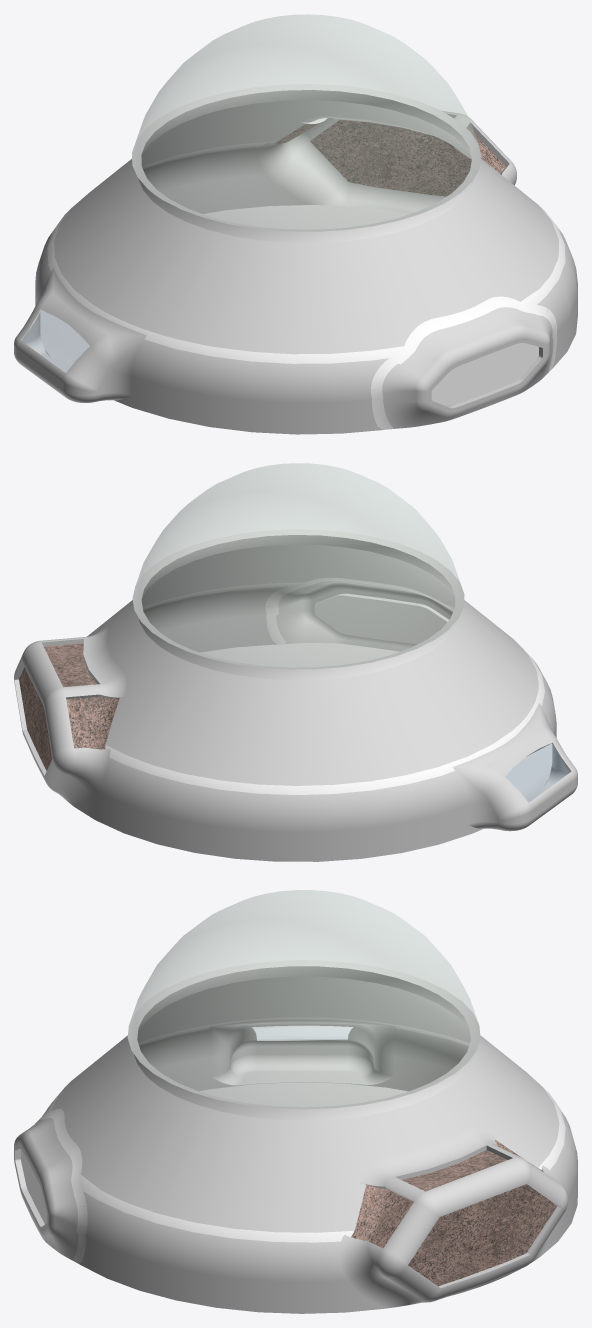
The model's file is ufo.glb.
The picture shows the model from 3 angles, top to bottom: view 1: azimuth 30°, elevation 25°; view 2: azimuth 150°, elevation 25°; view 3: azimuth 270°, elevation 25°; orthographic projection. The views are drawn at different scales.
Parts seen in each view (by area): view 1: Extruded.001; view 2: Extruded.001; view 3: Extruded.001.
Boxes of the visible parts, x1=… form: Extruded.001: x1=14, y1=14, x2=577, y2=434; Extruded.001: x1=14, y1=463, x2=577, y2=861; Extruded.001: x1=14, y1=890, x2=577, y2=1313.
Bounding box in the file's own units: 3.31 × 1.76 × 3.09.
6 materials, 2 textured.
